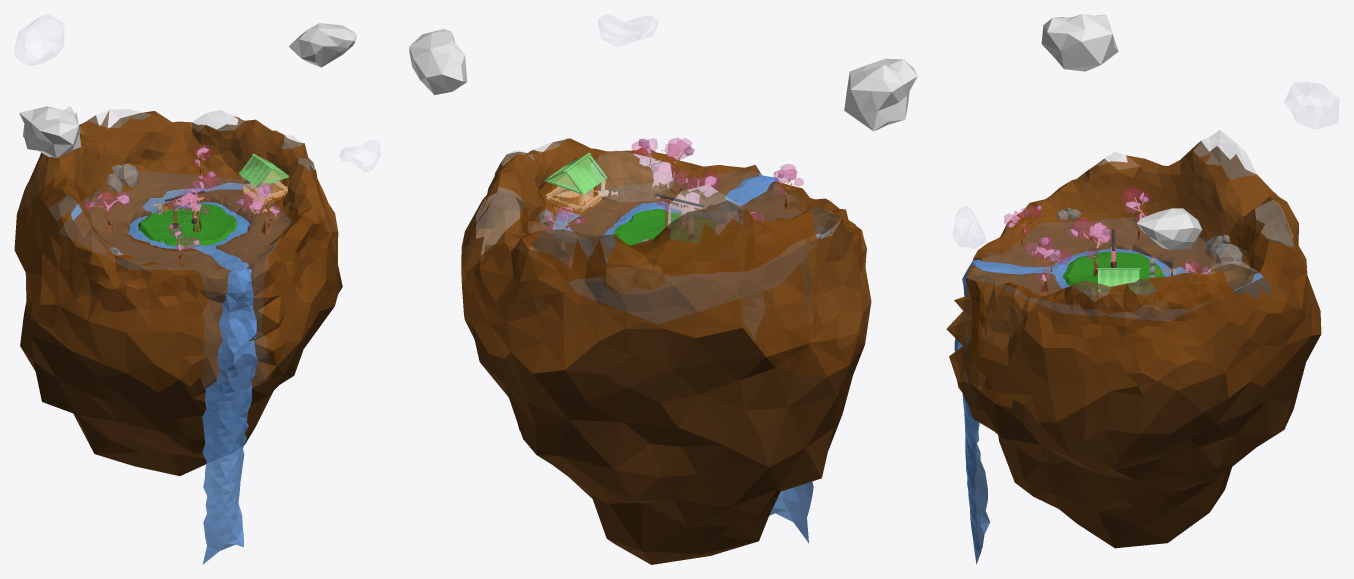
File: low_poly_floating_island.glb
3 renders of one model, left to right at view 1: azimuth 30°, elevation 25°; view 2: azimuth 150°, elevation 25°; view 3: azimuth 270°, elevation 25°, orthographic. The views are drawn at different scales.
Visible parts, largest first — view 1: Isla, Agua, Icosphere.001, Icosphere.002, Hojas, Icosphere, Casa, Roca, Hojas.001, Icosphere.003, Cube.001; view 2: Isla, Agua, Icosphere.001, Icosphere, Icosphere.002, Hojas, Casa, Roca, Icosphere.003, Hojas.001, Cube.001; view 3: Isla, Agua, Icosphere.001, Hojas, Icosphere, Icosphere.002, Icosphere.003, Roca, Casa, Hojas.001.
Boxes of the visible parts, box(x1,y1,x2,y2) form: Isla: box(14, 106, 342, 475); Agua: box(59, 170, 291, 564); Icosphere.001: box(19, 106, 81, 158); Icosphere.002: box(289, 23, 356, 67); Hojas: box(84, 145, 279, 250); Icosphere: box(15, 14, 63, 65); Casa: box(239, 153, 289, 187); Roca: box(100, 163, 139, 196); Hojas.001: box(176, 170, 217, 214); Icosphere.003: box(339, 140, 379, 171); Cube.001: box(241, 176, 289, 204); Isla: box(461, 138, 871, 564); Agua: box(528, 171, 829, 542); Icosphere.001: box(844, 58, 917, 131); Icosphere: box(590, 150, 672, 201); Icosphere.002: box(409, 29, 467, 94); Hojas: box(546, 138, 803, 229); Casa: box(544, 152, 607, 194); Roca: box(601, 262, 664, 294); Icosphere.003: box(598, 14, 658, 46); Hojas.001: box(651, 161, 719, 203); Cube.001: box(544, 180, 605, 216); Isla: box(946, 130, 1321, 548); Agua: box(954, 217, 1263, 564); Icosphere.001: box(1041, 14, 1118, 71); Hojas: box(1004, 187, 1209, 281); Icosphere: box(1284, 82, 1338, 128); Icosphere.002: box(1137, 208, 1201, 249); Icosphere.003: box(953, 206, 985, 248); Roca: box(1205, 234, 1246, 266); Casa: box(1096, 268, 1140, 291); Hojas.001: box(1068, 218, 1112, 259).
Size of the model in its own units: 14.06 by 16.65 by 12.25.
